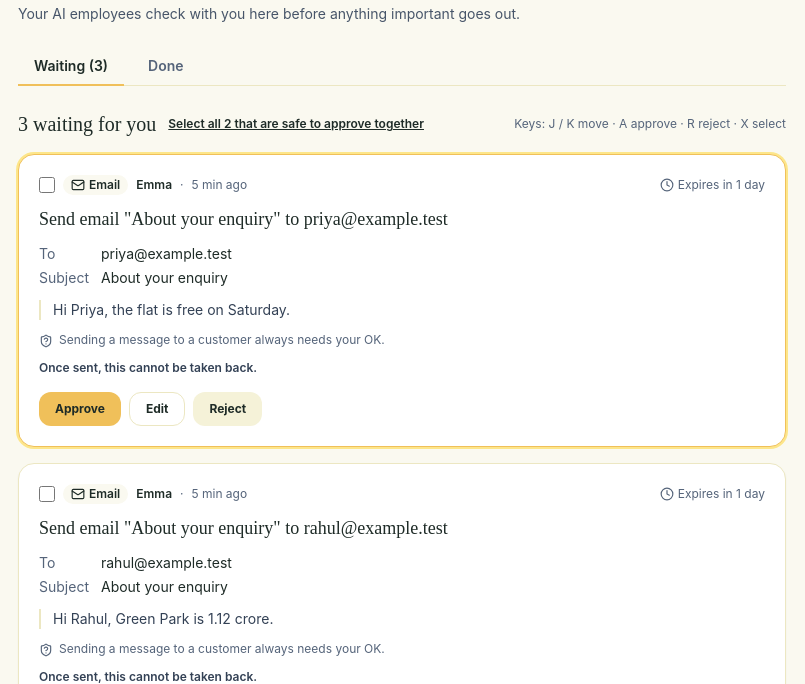
Test: Approvals page › approves several at once, but never a payment: money is read and approved one at a time
The image size is (805, 684).
Expected: the heading "Send email \"About your enquiry\" to priya@example.test" is shown, top-left (39, 209), bottom-right (448, 229)
Click the button "Select all 2 that are safe to approve together": (296, 124) top-left (168, 116), bottom-right (424, 132)
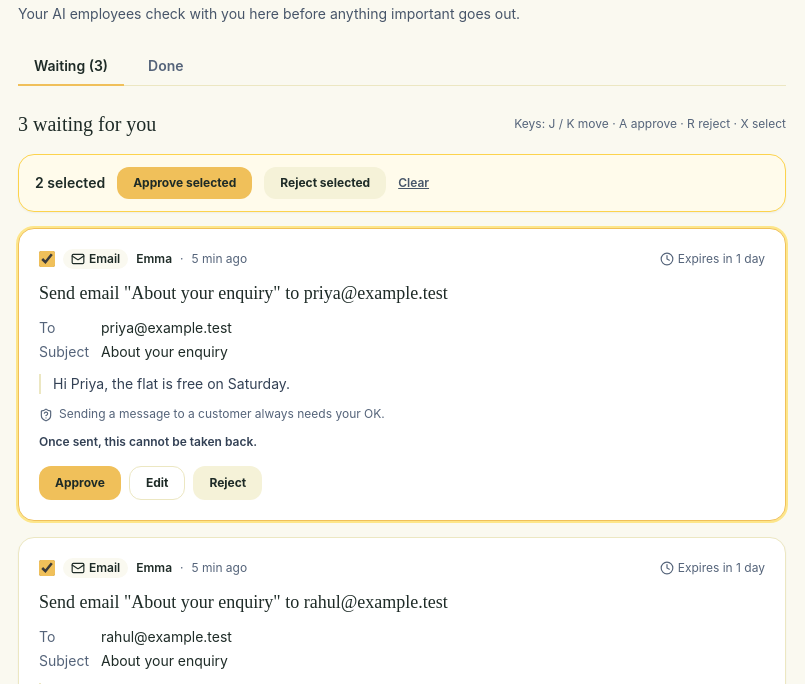
Result: the text "2 selected" is shown at top-left (35, 173), bottom-right (105, 193)
Click the button "Approve selected": (185, 183) top-left (117, 167), bottom-right (252, 199)
(page scrolled)
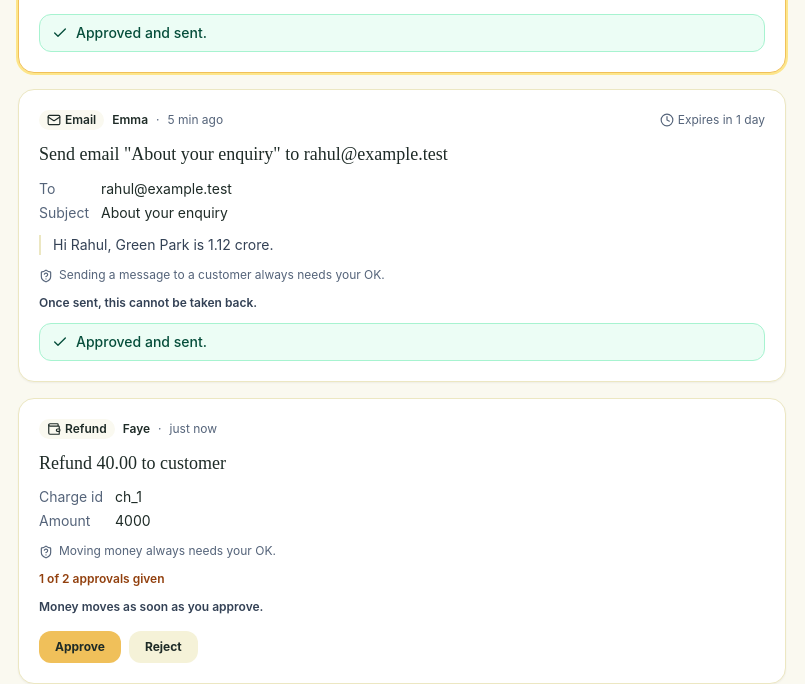
Expected: the text "1 of 2 approvals given" is shown, top-left (39, 571), bottom-right (164, 586)
Result: the text "Approved and sent." is shown 2 times at top-left (76, 23), bottom-right (207, 43); top-left (76, 332), bottom-right (207, 352)
Result: the checkbox is gone
